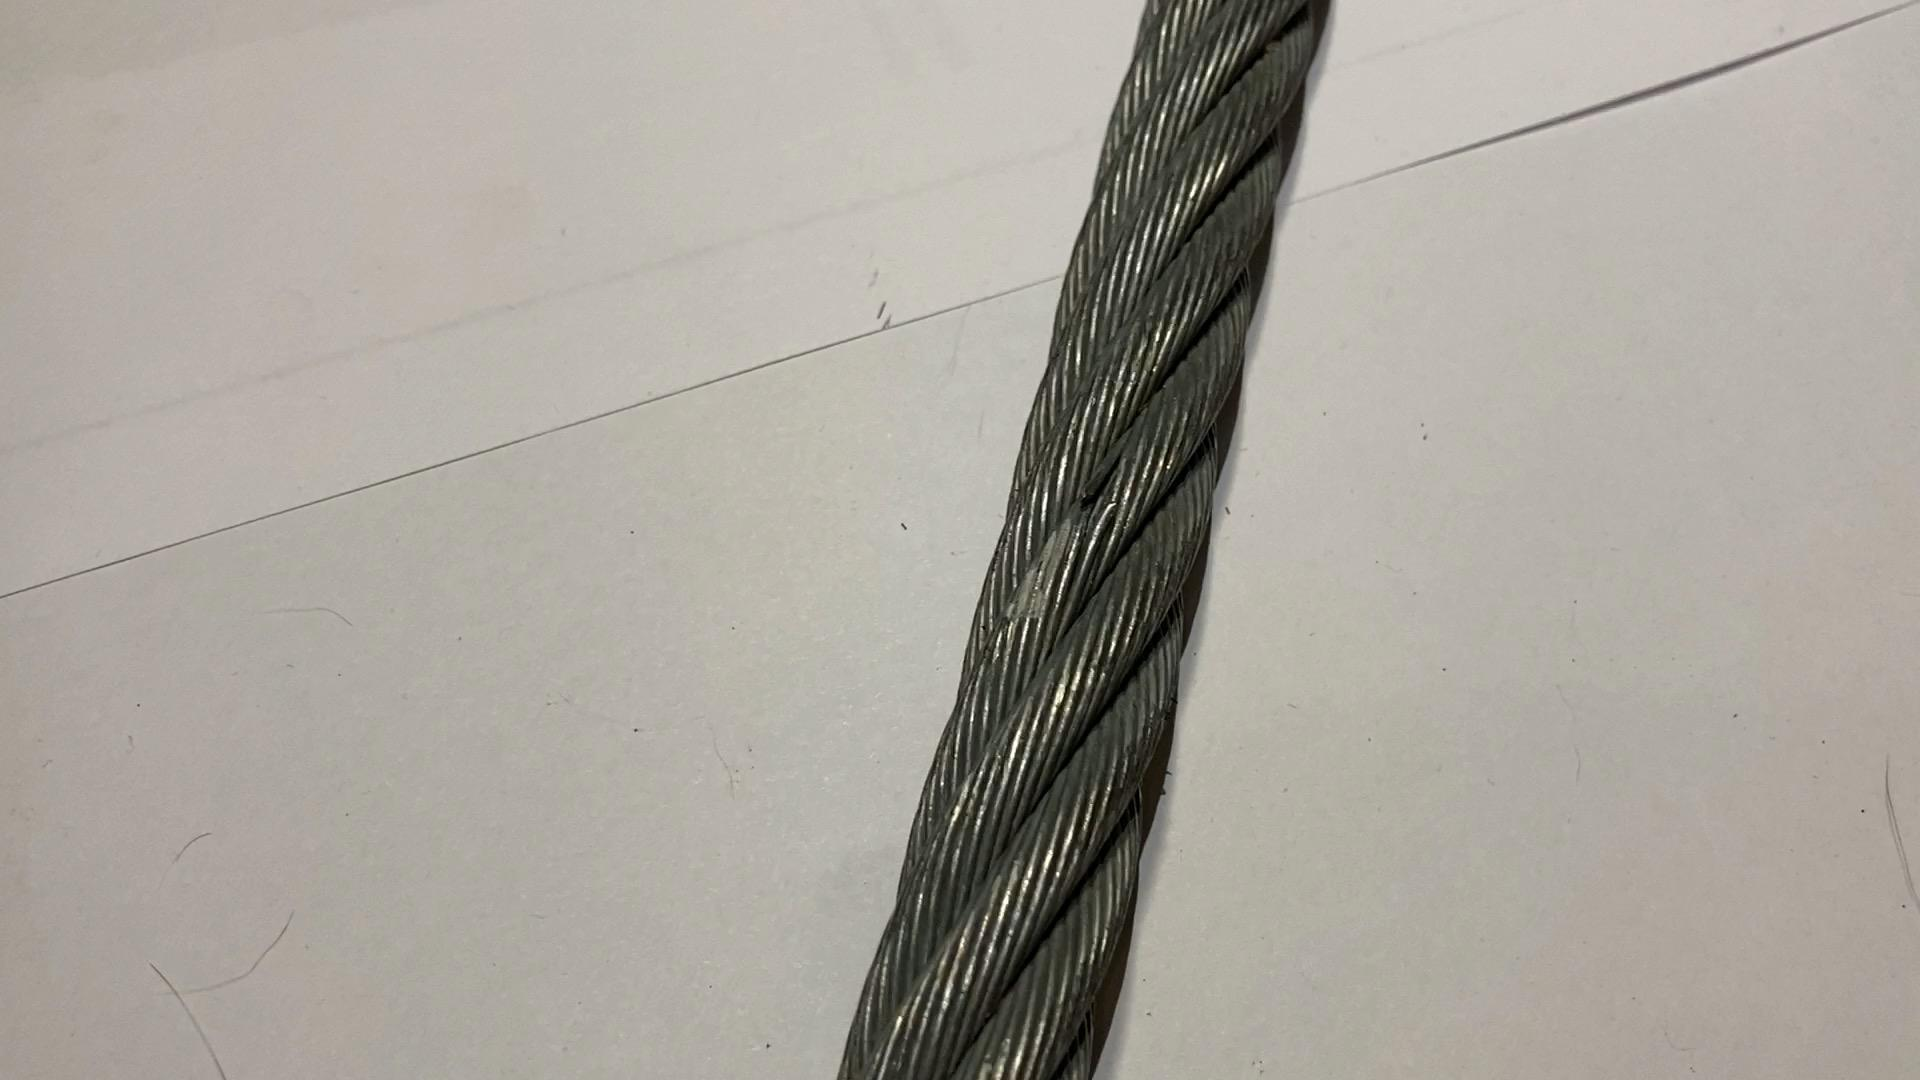break: (1068, 450, 1130, 517)
